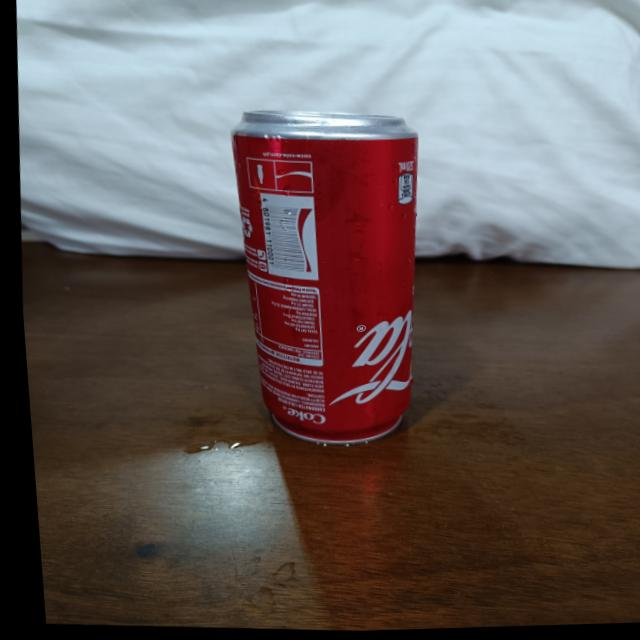coke: (220, 108, 437, 457)
